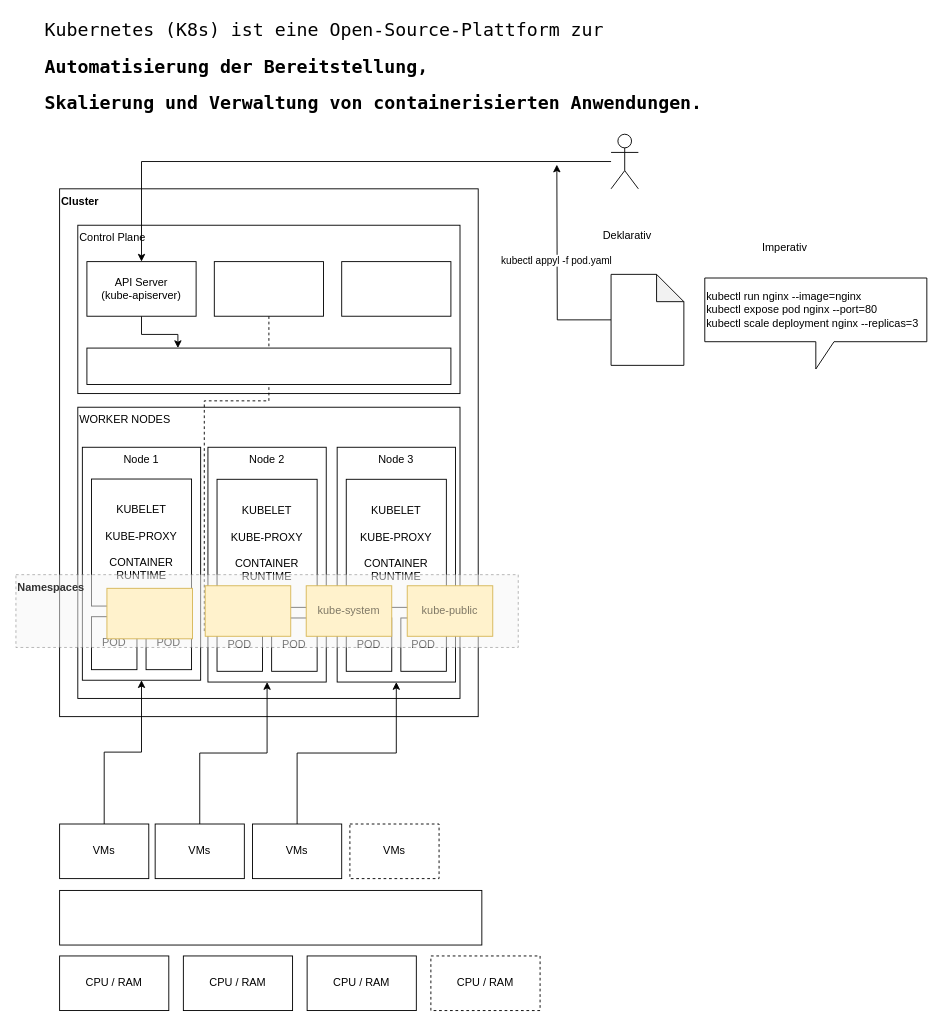
This 943x1026 diagram has some shape labels left out. Here are the shapes that lost their labels. From the top down, the centre of each, then its label:
At (624,161): "DevOps Engineer".
At (268,288): "Scheduler (kube-scheduler)".
At (396,288): "Controller Manager".
At (647,319): "pod.yaml".
At (268,365): "etcd.".
At (149,613): "Customer 1".
At (247,610): "default".
At (270,917): "VMWARE".
